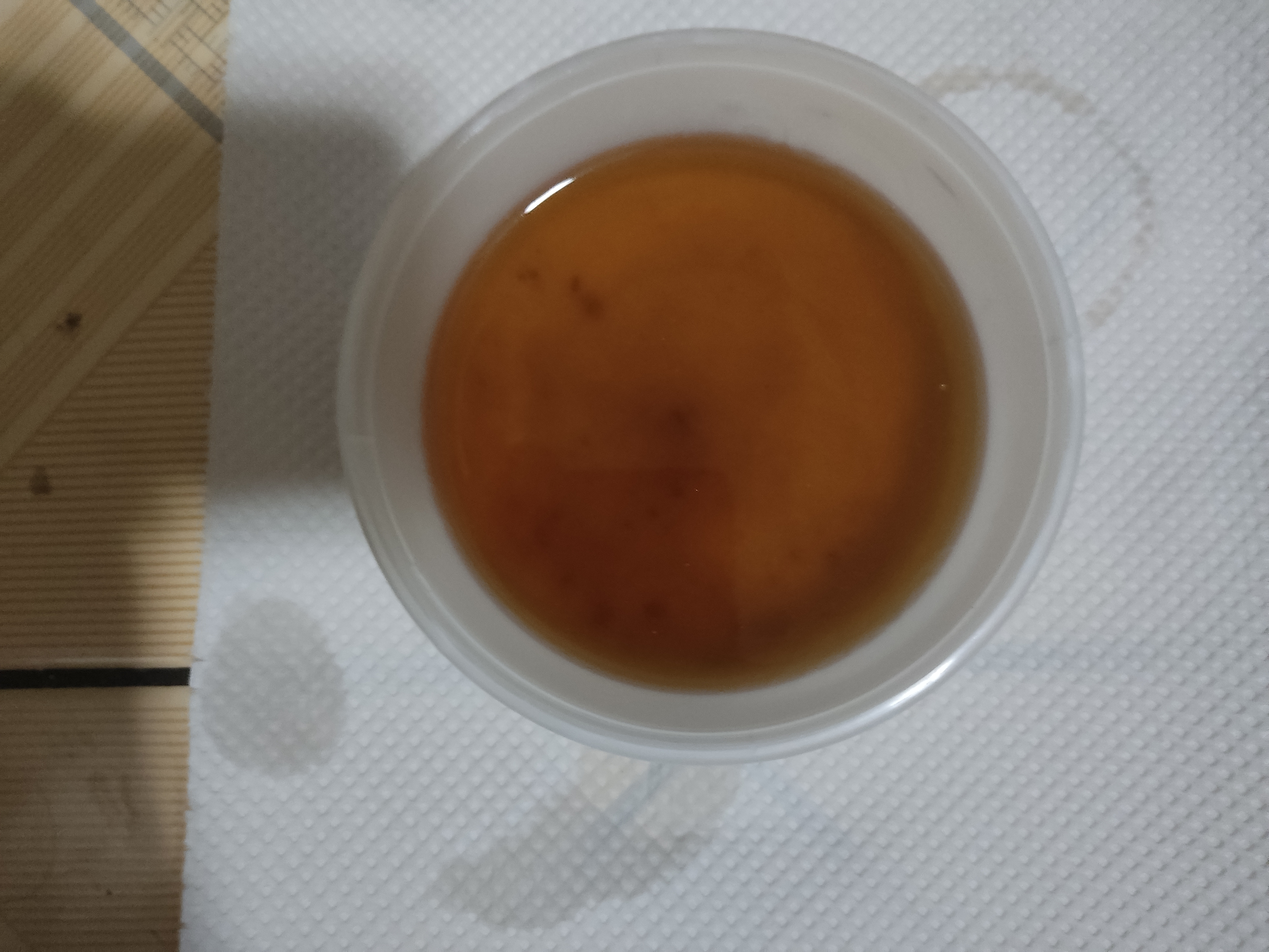non-reusable: (422, 129, 991, 697)
